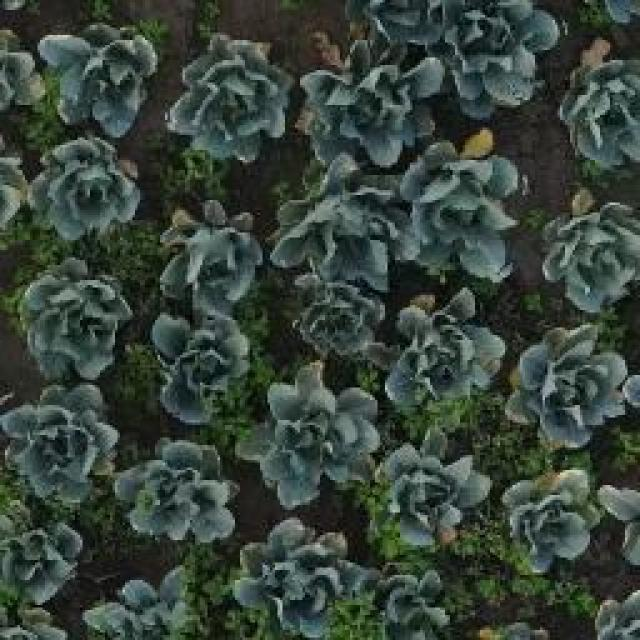cabbage: (395, 144, 519, 283), (246, 368, 375, 500), (270, 155, 403, 283), (13, 256, 142, 386), (231, 518, 367, 640), (297, 38, 433, 160), (2, 376, 122, 512), (172, 30, 290, 163), (510, 328, 636, 446), (387, 294, 504, 419), (423, 0, 554, 109), (23, 134, 145, 251), (154, 192, 269, 314), (32, 27, 156, 140), (110, 434, 238, 543), (370, 441, 490, 551), (144, 308, 251, 424), (542, 198, 640, 312), (496, 465, 597, 574), (562, 59, 640, 170), (0, 516, 91, 605), (294, 278, 388, 358)
